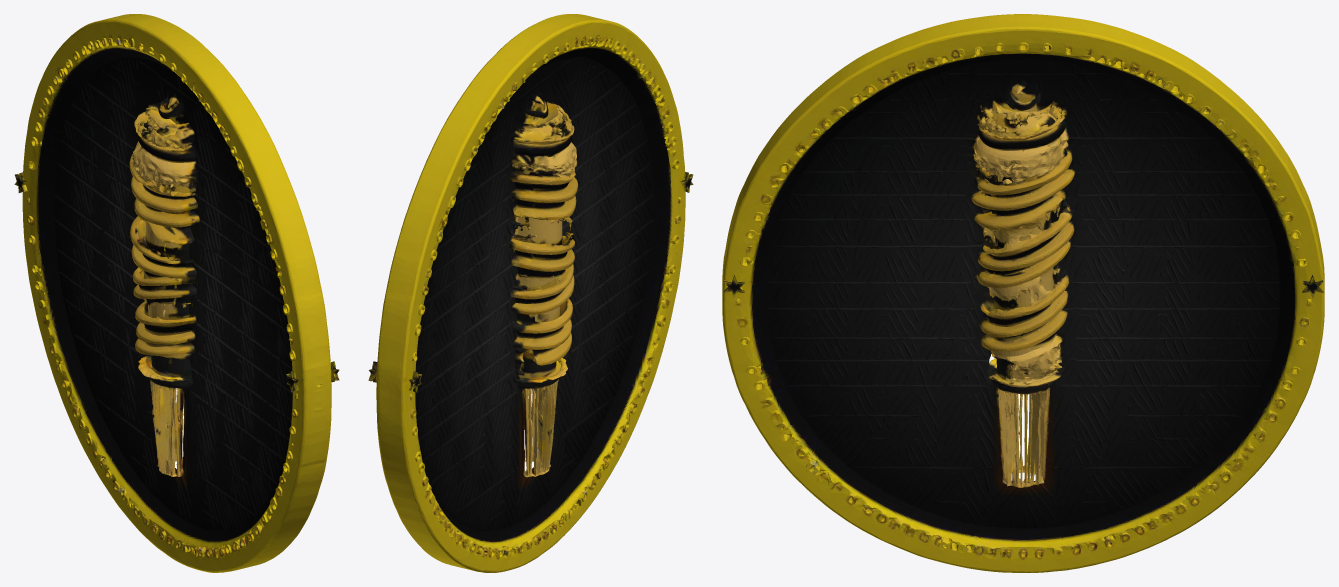
Rendered from medalhabazuBALA.glb.
The picture shows the model from 3 angles, left to right: view 1: azimuth 30°, elevation 25°; view 2: azimuth 150°, elevation 25°; view 3: azimuth 270°, elevation 25°; orthographic projection. The views are drawn at different scales.
Visible parts, largest first — view 1: tripo_node_2c922d9c-d303-41bb-8225-daad1f53be14; view 2: tripo_node_2c922d9c-d303-41bb-8225-daad1f53be14; view 3: tripo_node_2c922d9c-d303-41bb-8225-daad1f53be14.
Boxes of the visible parts, x1=… form: tripo_node_2c922d9c-d303-41bb-8225-daad1f53be14: x1=14, y1=14, x2=339, y2=572; tripo_node_2c922d9c-d303-41bb-8225-daad1f53be14: x1=368, y1=14, x2=693, y2=572; tripo_node_2c922d9c-d303-41bb-8225-daad1f53be14: x1=722, y1=14, x2=1324, y2=572.
Bounding box in the file's own units: 0.1649 × 1 × 1.
Materials: 1 (1 with a texture image).
